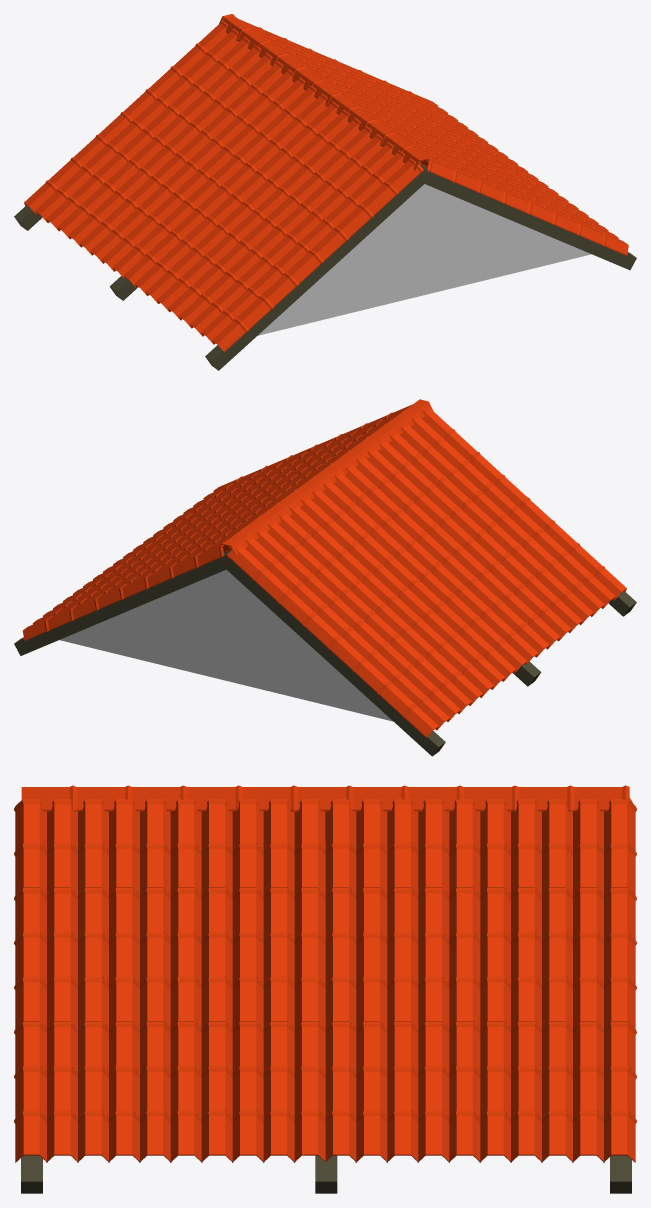
Rendered from Roof destruction.fbx.
3 views of the same model, one above another, from view 1: azimuth 30°, elevation 25°; view 2: azimuth 150°, elevation 25°; view 3: azimuth 270°, elevation 25° (orthographic). The views are drawn at different scales.
Visible parts, largest first — view 1: Cube.060, Cube.061, Cube.055, Cube.059, Cube.062, Cube.058, Cube.025, Cube.1968, Cube.005, Cube.1960, Cube.1965, Cube.051 (+10 smaller); view 2: Cube.049, Cube.048, Cube.053, Cube.050, Cube.047, Cube.052, Cube.1959, Cube.1966, Cube.1969, Cube.1963, Cube.1962, Cube.057 (+10 smaller); view 3: Cylinder.512, Cylinder.360, Cylinder.464, Cylinder.408, Cylinder.472, Cylinder.456, Cylinder.448, Cylinder.416, Cylinder.400, Cylinder.440, Cylinder.432, Cylinder.424 (+162 smaller).
Part boxes in pixels (x1,y1,x2,y2): Cube.060: (416,232,506,295); Cube.061: (340,254,422,315); Cube.055: (416,206,507,253); Cube.059: (505,219,591,275); Cube.062: (257,257,343,335); Cube.058: (343,206,418,267); Cube.025: (205,277,312,370); Cube.1968: (536,220,636,270); Cube.005: (366,166,430,231); Cube.1960: (307,223,371,285); Cube.1965: (477,195,541,230); Cube.051: (418,184,485,209); Cube.049: (144,618,234,680); Cube.048: (228,639,310,701); Cube.053: (143,592,234,639); Cube.050: (59,605,145,660); Cube.047: (307,643,392,721); Cube.052: (232,592,307,653); Cube.1959: (338,663,445,756); Cube.1966: (14,605,114,655); Cube.1969: (168,550,232,591); Cube.1963: (109,580,173,616); Cube.1962: (279,609,343,670); Cube.057: (165,569,232,595); Cylinder.512: (14,1110,47,1162); Cylinder.360: (603,1110,636,1162); Cylinder.464: (201,1110,233,1162); Cylinder.408: (417,1110,449,1162); Cylinder.472: (170,1110,202,1162); Cylinder.456: (232,1110,264,1162); Cylinder.448: (263,1110,295,1162); Cylinder.416: (386,1110,418,1162); Cylinder.400: (448,1110,480,1162); Cylinder.440: (294,1110,325,1162); Cylinder.432: (325,1110,356,1162); Cylinder.424: (355,1110,387,1162).
Bounding box in the file's own units: 10.32 × 3.76 × 8.5.
